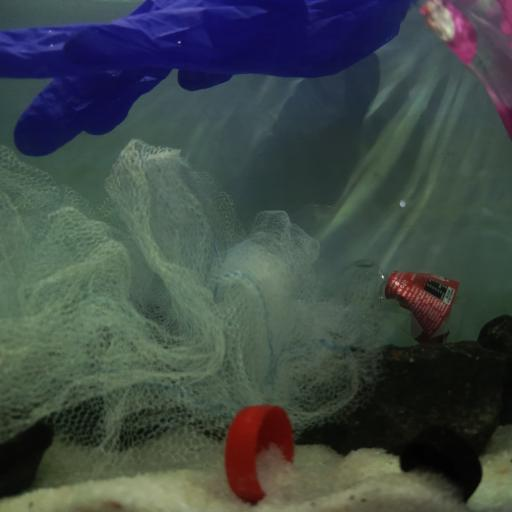bottle_cap: (224, 404, 295, 506), (400, 423, 484, 501)
glove: (2, 0, 412, 156)
net: (0, 138, 384, 469)
plastic_bottle: (337, 257, 491, 344), (418, 0, 512, 132)
